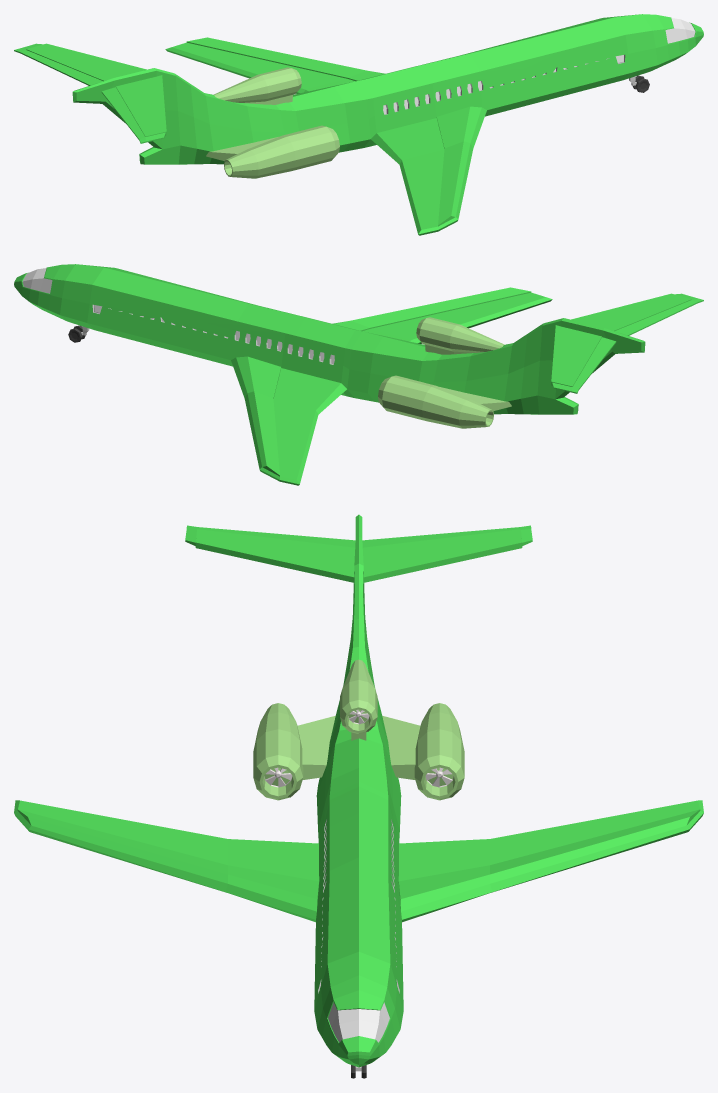
3 renders of one model, top to bottom at view 1: azimuth 30°, elevation 25°; view 2: azimuth 150°, elevation 25°; view 3: azimuth 270°, elevation 25°, orthographic. The views are drawn at different scales.
Visible parts, largest first — view 1: Plane.007; view 2: Plane.007; view 3: Plane.007.
Part boxes in pixels (x1,y1,x2,y2): Plane.007: [14, 14, 703, 235]; Plane.007: [14, 264, 703, 485]; Plane.007: [14, 514, 703, 1078].
Bounding box in the file's own units: 228 × 49.01 × 159.
